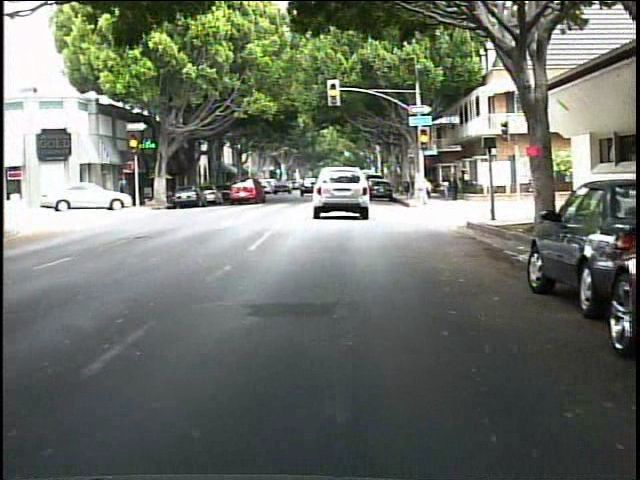person: (413, 171, 434, 210), (448, 168, 461, 204), (439, 169, 453, 202), (458, 164, 471, 196)
